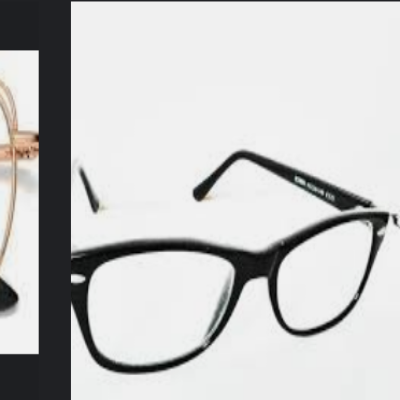glasses: (70, 147, 400, 378)
